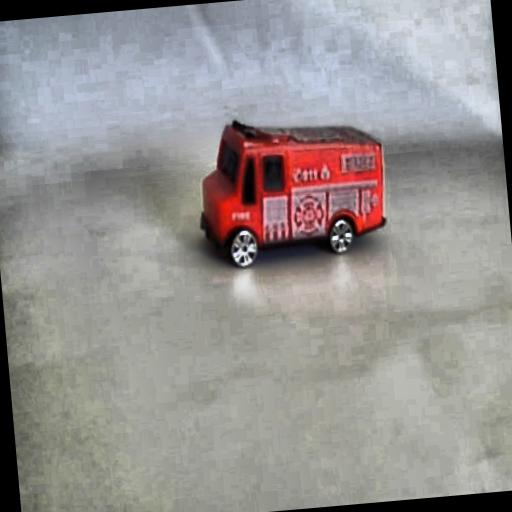fire_truck: (188, 102, 397, 271)
